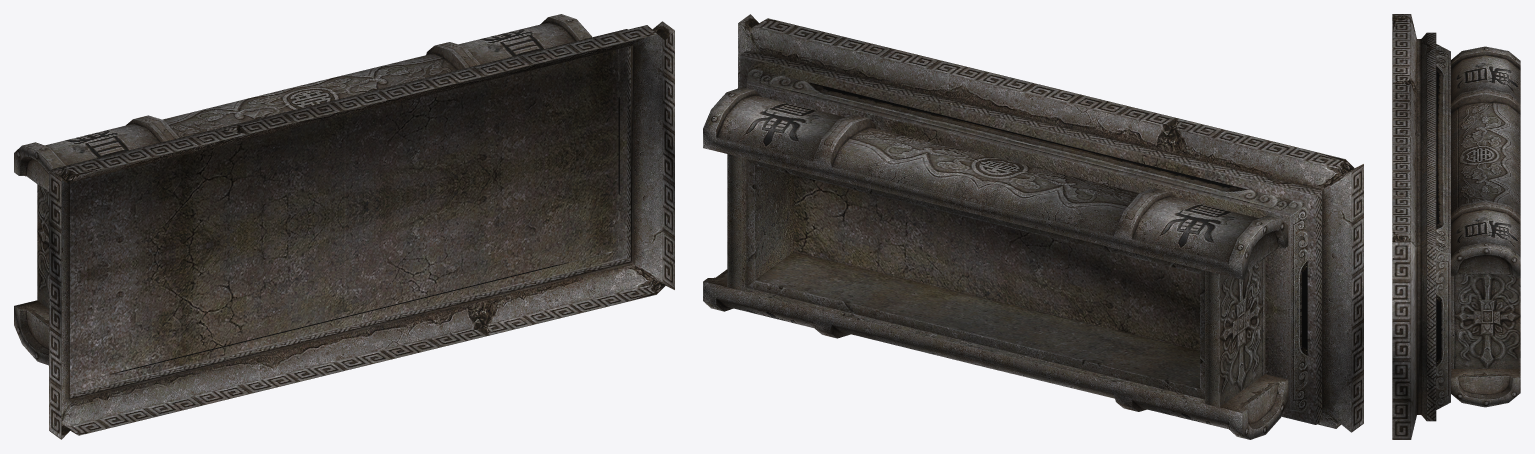
The model's file is guancai_001.FBX.
The picture shows the model from 3 angles, left to right: view 1: azimuth 30°, elevation 25°; view 2: azimuth 150°, elevation 25°; view 3: azimuth 270°, elevation 25°; orthographic projection. The views are drawn at different scales.
Parts seen in each view (by area): view 1: HighCasket_01; view 2: HighCasket_01; view 3: HighCasket_01.
Part boxes in pixels (x1,y1,x2,y2): HighCasket_01: (14,14,674,439); HighCasket_01: (703,14,1363,439); HighCasket_01: (1392,14,1520,439).
Bounding box in the file's own units: 498 × 202 × 119.
1 material, 1 textured.
